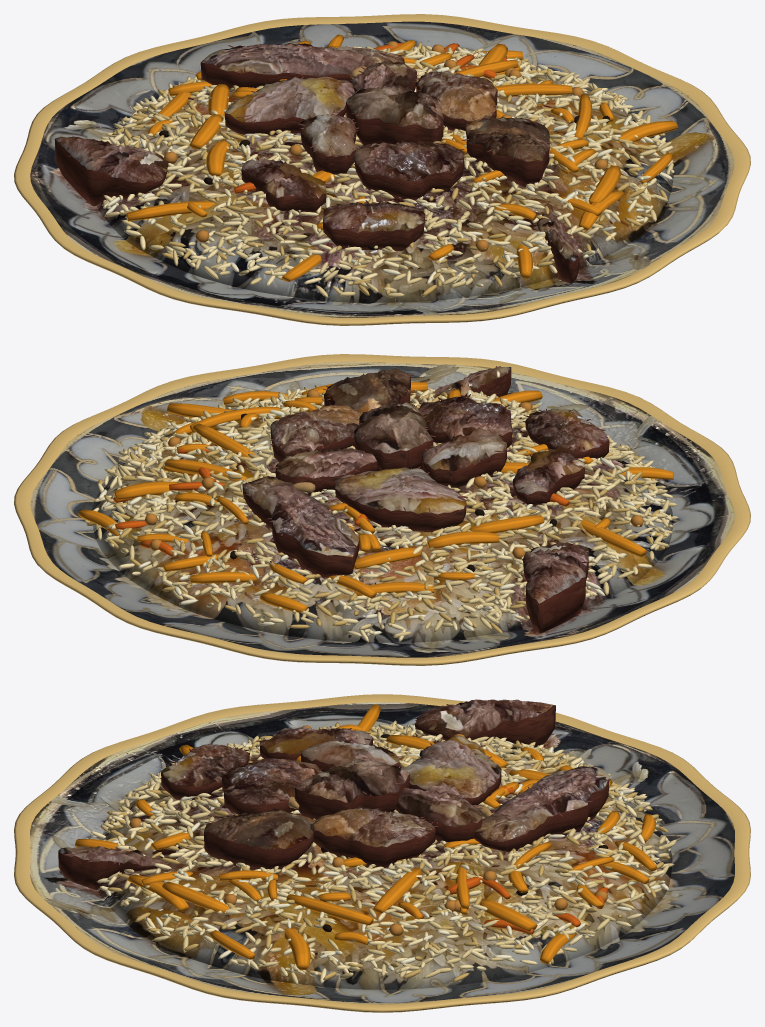
File: toyosh.glb
The picture shows the model from 3 angles, top to bottom: view 1: azimuth 30°, elevation 25°; view 2: azimuth 150°, elevation 25°; view 3: azimuth 270°, elevation 25°; orthographic projection.
Visible parts, largest first — view 1: 01_Handpainted_Porcelain_Lagan, 05_Slow_Cooked_Meat_Pieces, 03_Individual_Long_Grain_Rice, 02_Rice_Interior, 04_Braised_Yellow_and_Orange_Carrots, 09_Additional_Surface_Rice, 08_Chickpeas_Raisins_and_Cumin, 06_Torn_Meat_Fibers; view 2: 01_Handpainted_Porcelain_Lagan, 05_Slow_Cooked_Meat_Pieces, 03_Individual_Long_Grain_Rice, 02_Rice_Interior, 04_Braised_Yellow_and_Orange_Carrots, 09_Additional_Surface_Rice, 08_Chickpeas_Raisins_and_Cumin, 06_Torn_Meat_Fibers; view 3: 01_Handpainted_Porcelain_Lagan, 05_Slow_Cooked_Meat_Pieces, 02_Rice_Interior, 03_Individual_Long_Grain_Rice, 04_Braised_Yellow_and_Orange_Carrots, 09_Additional_Surface_Rice, 08_Chickpeas_Raisins_and_Cumin, 06_Torn_Meat_Fibers.
Boxes of the visible parts, x1=… form: 01_Handpainted_Porcelain_Lagan: x1=14, y1=14, x2=750, y2=325; 05_Slow_Cooked_Meat_Pieces: x1=54, y1=42, x2=578, y2=283; 03_Individual_Long_Grain_Rice: x1=100, y1=42, x2=674, y2=297; 02_Rice_Interior: x1=96, y1=53, x2=673, y2=302; 04_Braised_Yellow_and_Orange_Carrots: x1=126, y1=34, x2=678, y2=281; 09_Additional_Surface_Rice: x1=98, y1=46, x2=671, y2=285; 08_Chickpeas_Raisins_and_Cumin: x1=158, y1=41, x2=609, y2=251; 06_Torn_Meat_Fibers: x1=59, y1=44, x2=581, y2=256; 01_Handpainted_Porcelain_Lagan: x1=14, y1=354, x2=750, y2=665; 05_Slow_Cooked_Meat_Pieces: x1=242, y1=367, x2=609, y2=633; 03_Individual_Long_Grain_Rice: x1=83, y1=385, x2=678, y2=642; 02_Rice_Interior: x1=92, y1=394, x2=673, y2=642; 04_Braised_Yellow_and_Orange_Carrots: x1=77, y1=382, x2=673, y2=612; 09_Additional_Surface_Rice: x1=98, y1=388, x2=667, y2=629; 08_Chickpeas_Raisins_and_Cumin: x1=145, y1=389, x2=643, y2=584; 06_Torn_Meat_Fibers: x1=244, y1=366, x2=606, y2=599; 01_Handpainted_Porcelain_Lagan: x1=14, y1=694, x2=750, y2=1012; 05_Slow_Cooked_Meat_Pieces: x1=58, y1=699, x2=609, y2=889; 02_Rice_Interior: x1=97, y1=733, x2=672, y2=989; 03_Individual_Long_Grain_Rice: x1=90, y1=720, x2=676, y2=984; 04_Braised_Yellow_and_Orange_Carrots: x1=75, y1=704, x2=657, y2=970; 09_Additional_Surface_Rice: x1=103, y1=721, x2=665, y2=977; 08_Chickpeas_Raisins_and_Cumin: x1=129, y1=725, x2=608, y2=935; 06_Torn_Meat_Fibers: x1=63, y1=704, x2=611, y2=866.
Size of the model in its own units: 0.28 by 0.0503 by 0.2754.
16 materials, 14 textured.
